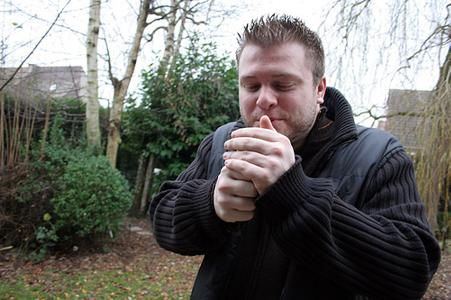person: (150, 15, 445, 300)
